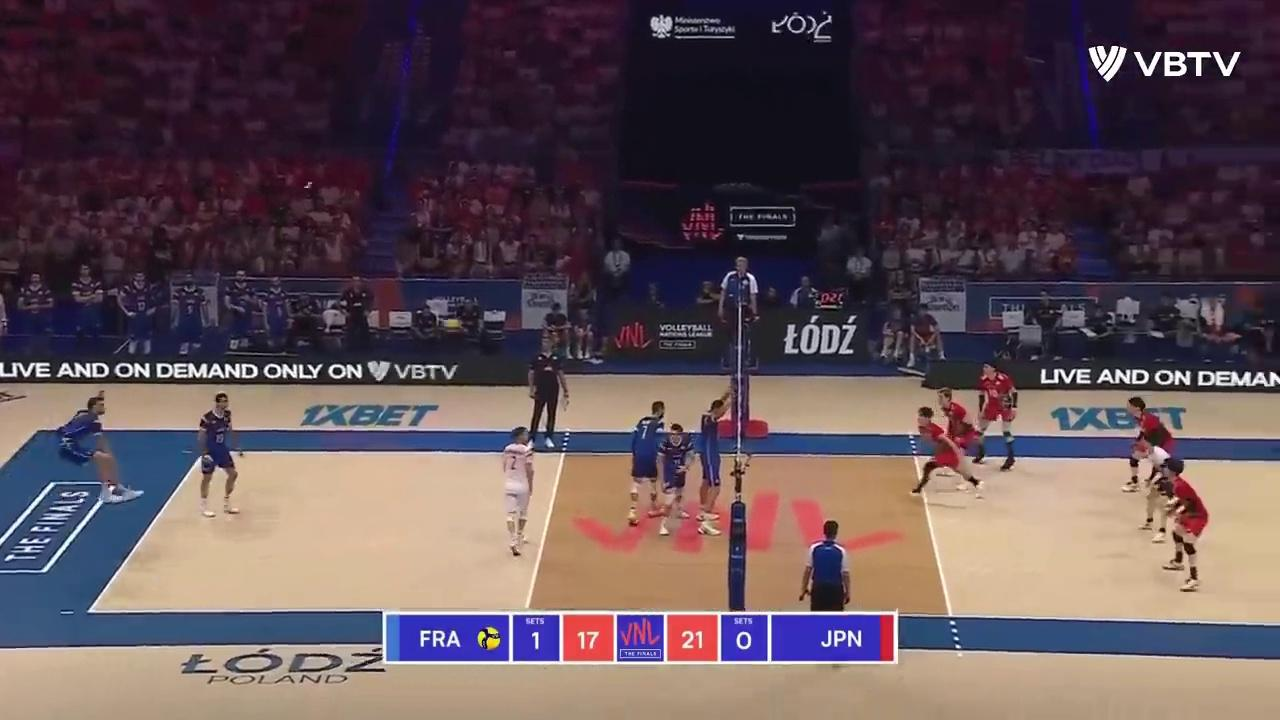ball: (442, 319, 462, 332)
